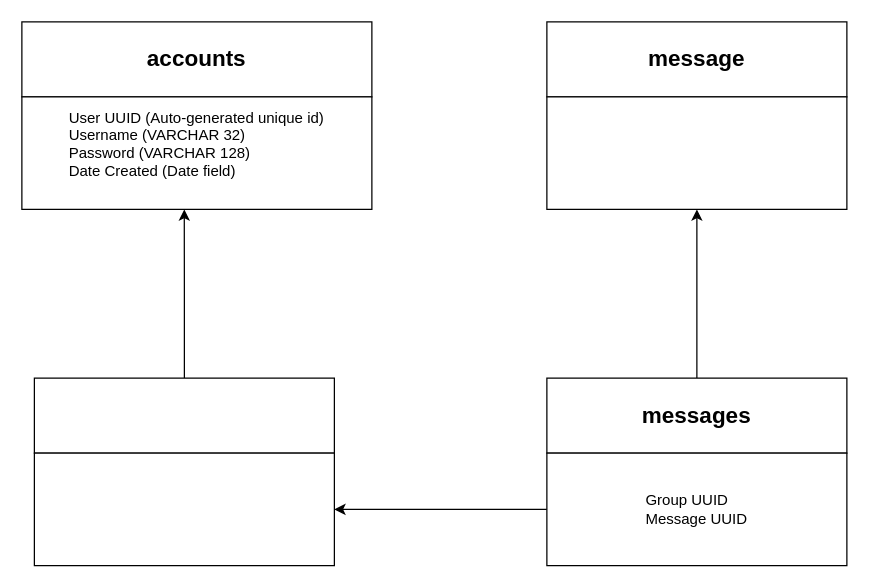
Some shapes in this 869 by 588 pixel diagram are drawn without their labels. The centre of each missing label's shape, as x and y in pixels:
"Group Name Group UUID User UUID" belongs at [183,509].
"groups" belongs at [183,415].
"Message UUID Message Content Date & Time Sent" belongs at [696,152].
